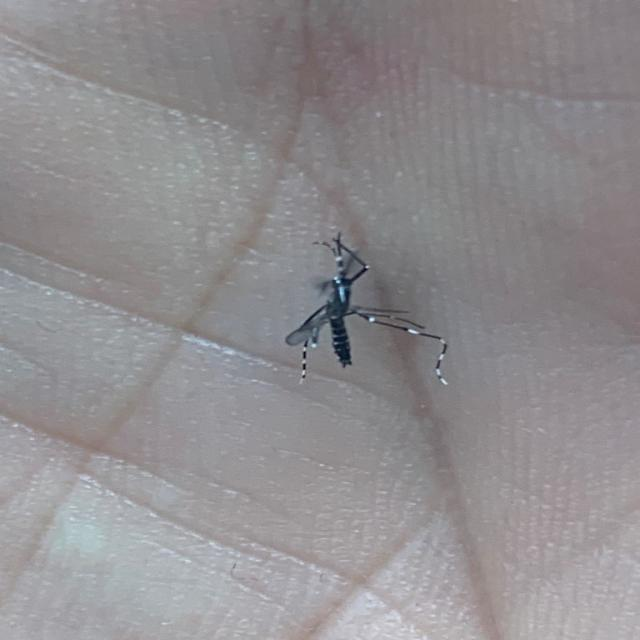albopictus: (274, 221, 460, 388)
